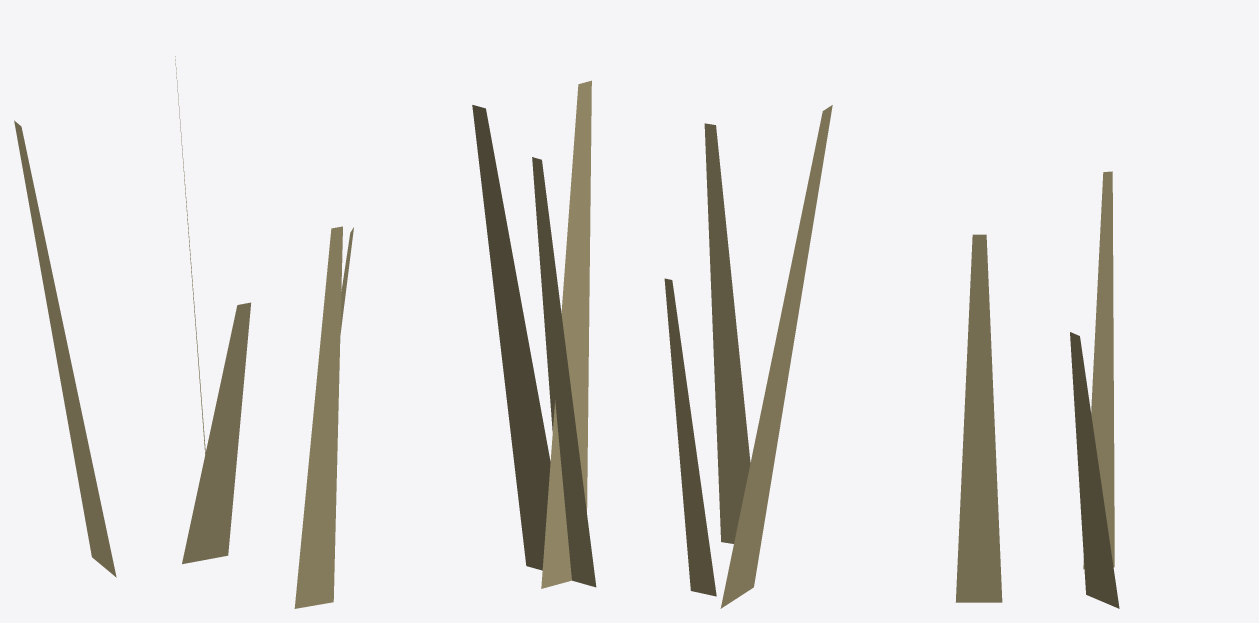
The model's file is veg_grass_dry_02.glb.
3 views of the same model, side by side, from view 1: azimuth 30°, elevation 25°; view 2: azimuth 150°, elevation 25°; view 3: azimuth 270°, elevation 25° (orthographic). The views are drawn at different scales.
Parts seen in each view (by area): view 1: blade_05, blade_00, blade_07; view 2: blade_02, blade_03, blade_07, blade_08, blade_09, blade_04; view 3: blade_10, blade_01, blade_06.
Part boxes in pixels (box(x1,y1,x2,y2)): blade_05: box(294, 226, 342, 608); blade_00: box(182, 302, 250, 564); blade_07: box(14, 120, 116, 577); blade_02: box(472, 105, 550, 570); blade_03: box(541, 80, 591, 588); blade_07: box(720, 105, 832, 608); blade_08: box(704, 123, 750, 543); blade_09: box(532, 157, 596, 587); blade_04: box(664, 278, 716, 596); blade_10: box(955, 234, 1002, 602); blade_01: box(1083, 171, 1114, 569); blade_06: box(1070, 332, 1119, 608).
Size of the model in its own units: 0.8246 by 1.01 by 0.7859.
